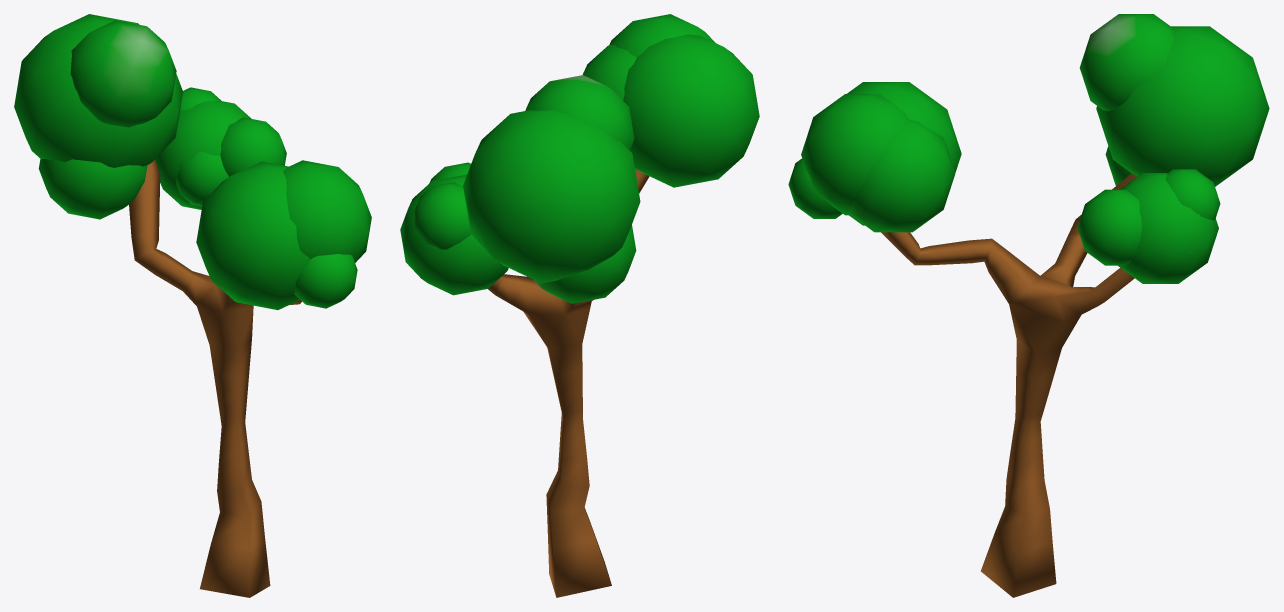
Rendered from tree.fbx_Scene.fbx.
3 views of the same model, side by side, from view 1: azimuth 30°, elevation 25°; view 2: azimuth 150°, elevation 25°; view 3: azimuth 270°, elevation 25° (orthographic). The views are drawn at different scales.
Parts seen in each view (by area): view 1: Icosphere.006, Icosphere.009, Cube, Icosphere.001; view 2: Icosphere.006, Icosphere.009, Cube, Icosphere.001; view 3: Icosphere.006, Cube, Icosphere.009, Icosphere.001.
Part boxes in pixels (x1,y1,x2,y2): Icosphere.006: (14, 14, 182, 219); Icosphere.009: (196, 160, 371, 309); Cube: (129, 159, 301, 597); Icosphere.001: (155, 87, 286, 209); Icosphere.006: (463, 75, 640, 303); Icosphere.009: (582, 14, 759, 187); Cube: (402, 168, 649, 597); Icosphere.001: (400, 162, 508, 295); Icosphere.006: (1079, 14, 1269, 186); Cube: (881, 173, 1191, 597); Icosphere.009: (788, 82, 961, 232); Icosphere.001: (1077, 169, 1220, 283).
Bounding box in the file's own units: 469 × 1092 × 884.
